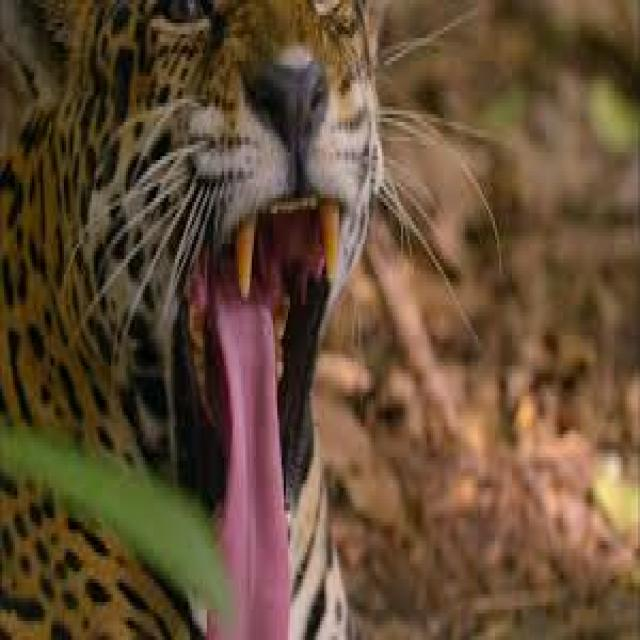Jaguar: (9, 0, 386, 640)
